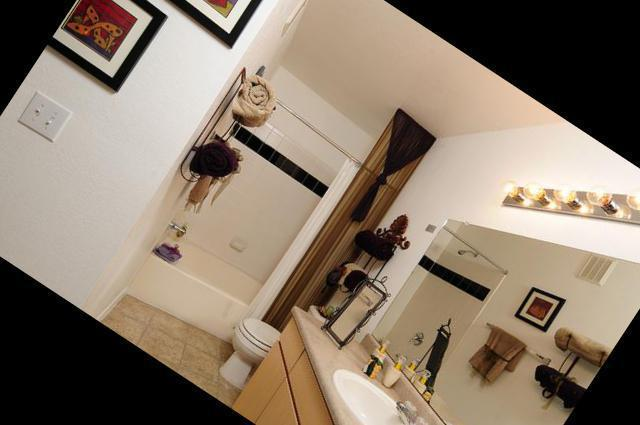Lavamanos: (307, 350, 462, 425)
Sanitario: (205, 301, 316, 413)
